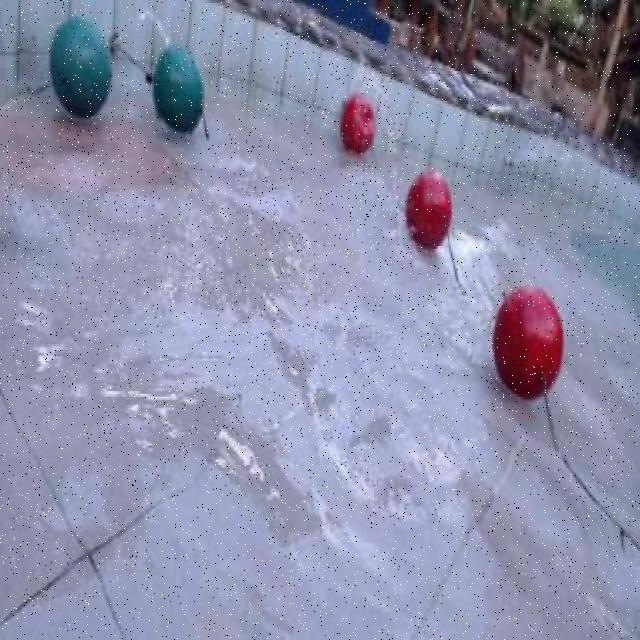buoy: (491, 282, 564, 402), (50, 15, 109, 116), (153, 46, 204, 134), (403, 169, 452, 252), (339, 92, 375, 154)
